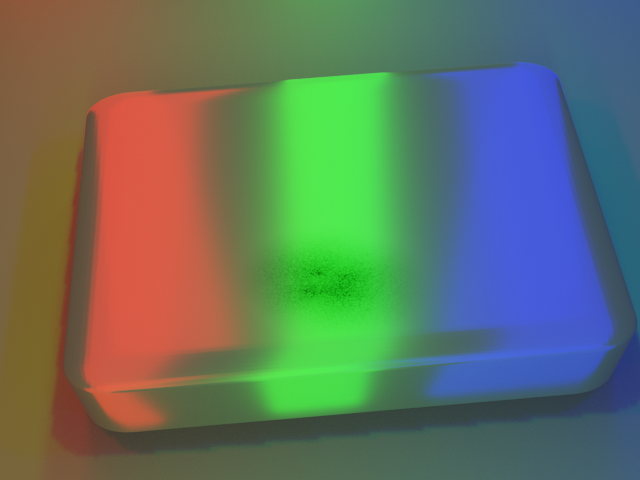stain: (201, 221, 462, 380)
